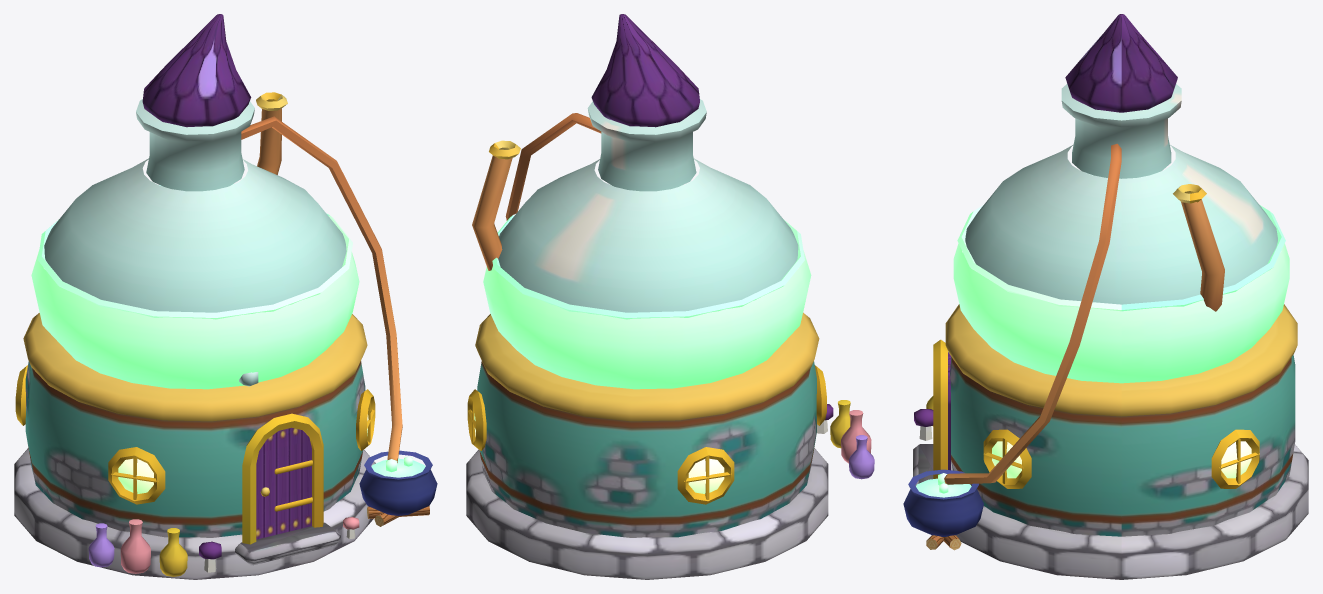
Rendered from alchemy.glb.
The picture shows the model from 3 angles, left to right: view 1: azimuth 30°, elevation 25°; view 2: azimuth 150°, elevation 25°; view 3: azimuth 270°, elevation 25°; orthographic projection. The views are drawn at different scales.
Visible parts, largest first — view 1: alchemy; view 2: alchemy; view 3: alchemy.
Part boxes in pixels (left/top/right/bottom): alchemy: left=14, top=14, right=437, bottom=579; alchemy: left=466, top=14, right=874, bottom=579; alchemy: left=903, top=14, right=1308, bottom=579.
Size of the model in its own units: 6.61 by 9.26 by 6.83.
Materials: 4 (4 with a texture image).
